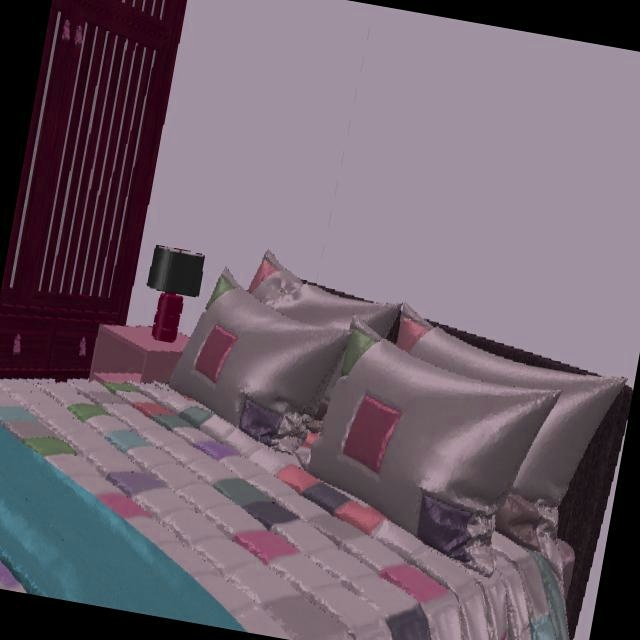bed: (0, 252, 631, 640)
lamp: (145, 245, 205, 341)
nighttable: (91, 325, 184, 379)
pillow: (169, 252, 625, 574)
